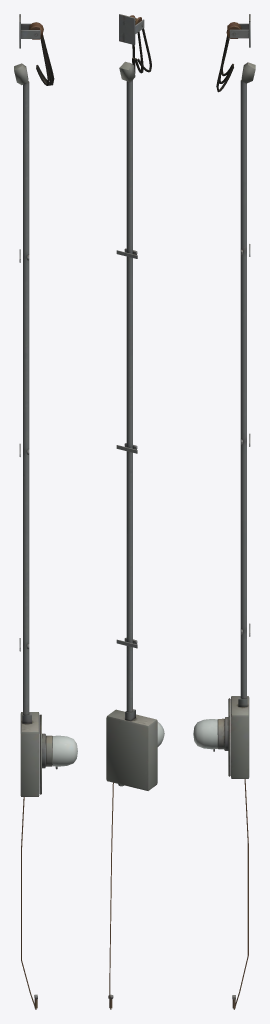
File: service_mast-low.glb
3 views of the same model, side by side, from view 1: azimuth 90°, elevation 25°; view 2: azimuth 150°, elevation 25°; view 3: azimuth 270°, elevation 25° (orthographic). The views are drawn at different scales.
Parts seen in each view (by area): view 1: service_mast; view 2: service_mast; view 3: service_mast.
Boxes of the visible parts, x1,y1,x2,y2 form: service_mast: (14,14,77,1009); service_mast: (106,14,164,1009); service_mast: (193,14,255,1009).
Size of the model in its own units: 0.2923 by 5.94 by 0.3423.
Materials: 2 (2 with a texture image).
